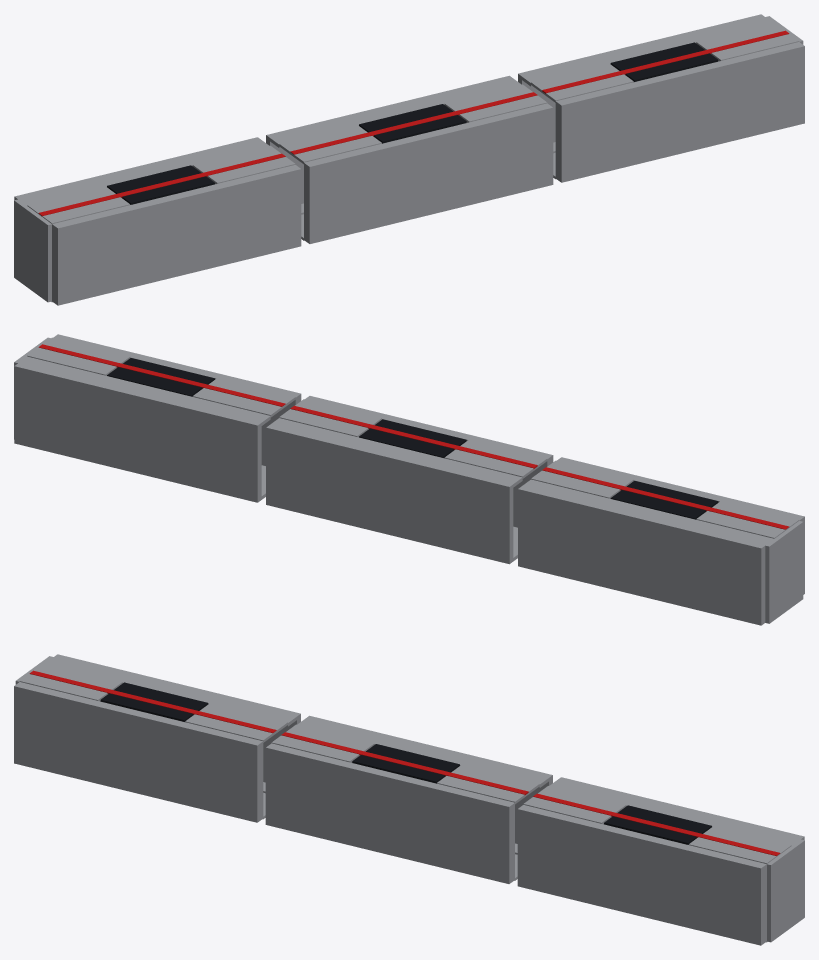
File: metro_train_red_closed.obj
The picture shows the model from 3 angles, top to bottom: view 1: azimuth 30°, elevation 25°; view 2: azimuth 150°, elevation 25°; view 3: azimuth 330°, elevation 25°; orthographic projection.
Parts seen in each view (by area): view 1: metro_train_red_closed; view 2: metro_train_red_closed; view 3: metro_train_red_closed.
Boxes of the visible parts, <box> form: metro_train_red_closed: <box>14,14,804,305</box>; metro_train_red_closed: <box>14,334,804,625</box>; metro_train_red_closed: <box>14,654,804,945</box>.
Size of the model in its own units: 9 by 0.91 by 0.9.
